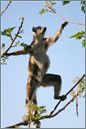cat: (2, 19, 71, 128)
